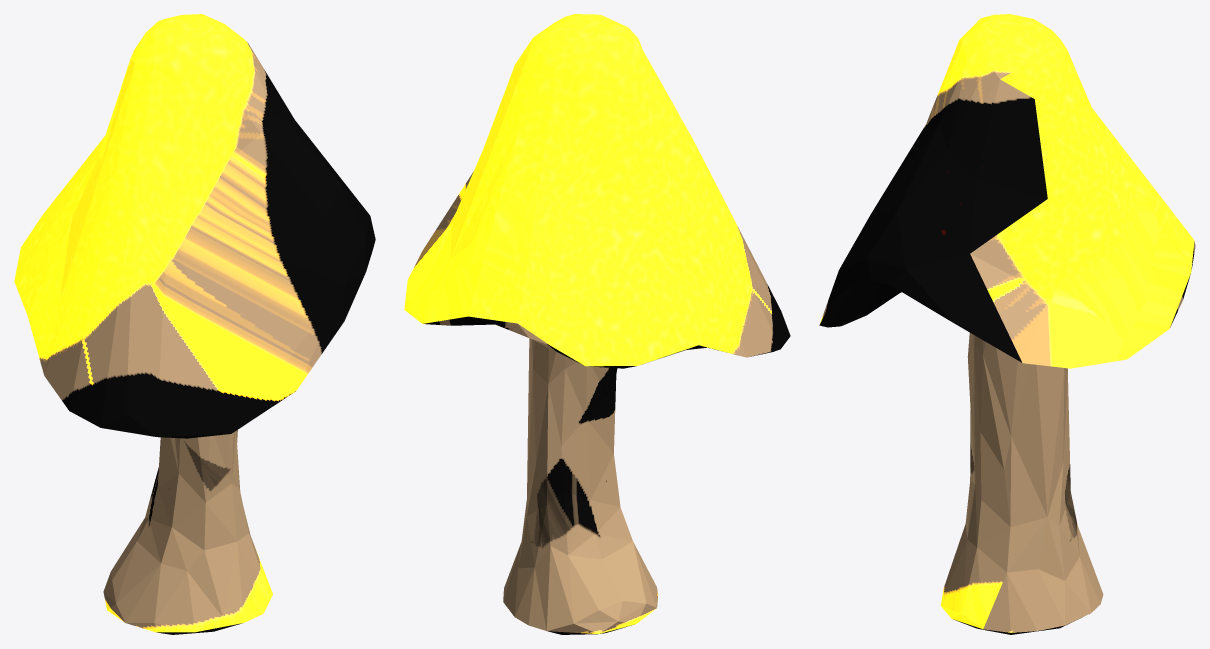
Rendered from Muhsroom2.fbx.
3 renders of one model, left to right at view 1: azimuth 30°, elevation 25°; view 2: azimuth 150°, elevation 25°; view 3: azimuth 270°, elevation 25°, orthographic.
Parts seen in each view (by area): view 1: Mushroom2_low; view 2: Mushroom2_low; view 3: Mushroom2_low.
Boxes of the visible parts, x1,y1,x2,y2 form: Mushroom2_low: (14, 14, 375, 634); Mushroom2_low: (404, 14, 790, 634); Mushroom2_low: (819, 14, 1195, 634).
Bounding box in the file's own units: 11.73 × 20.86 × 12.13.
